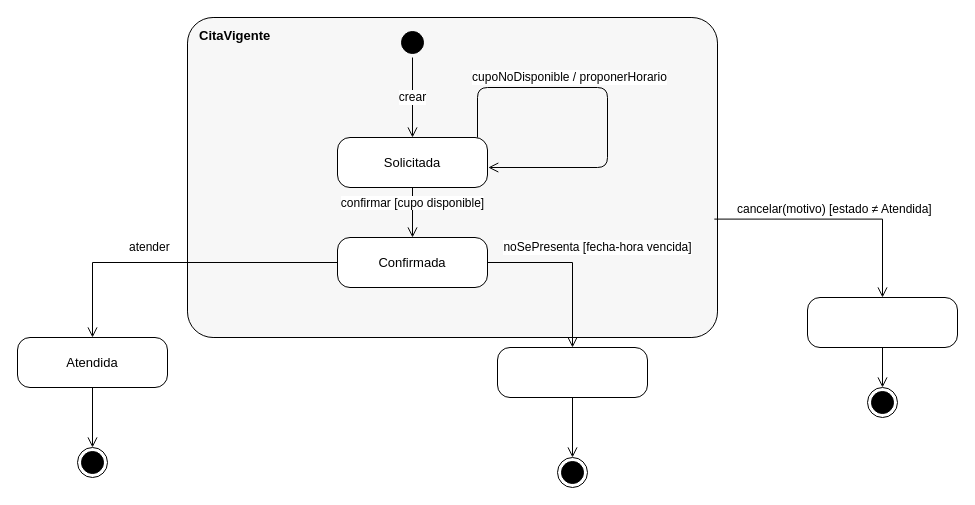
The diagram is 975 pixels wide and 505 high, and some of its shapes have lost their labels. Here are the shapes that lost their labels. From the top down, the centre of each, then its label:
At (882,322): "Cancelada".
At (572,372): "No asistida".
